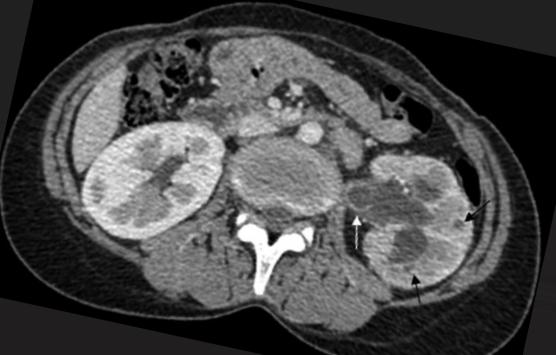anomaly: (344, 186, 380, 209)
